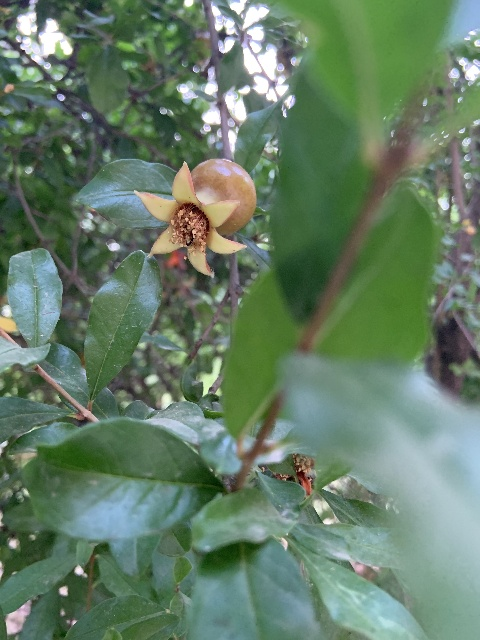early-fruit: (136, 157, 256, 276), (0, 265, 19, 356)
